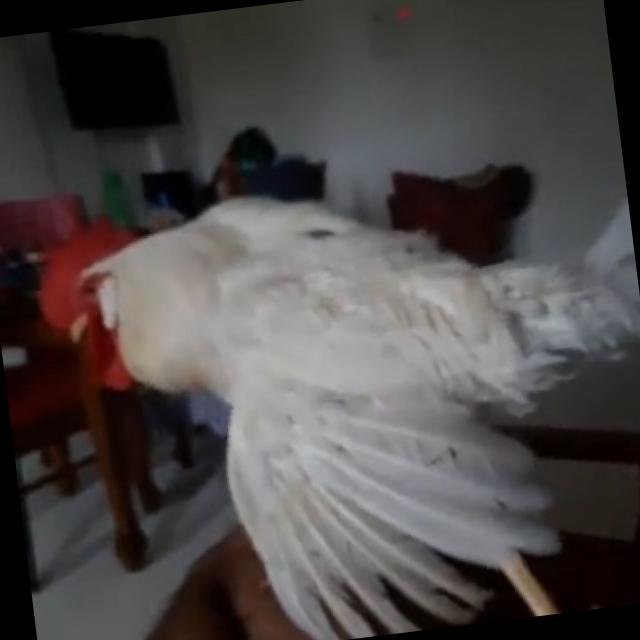wing and leg stretching: (31, 129, 640, 640)
